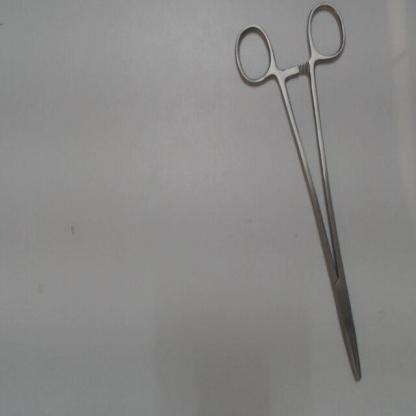8 Mayo Needle Holder: (229, 1, 371, 393)
